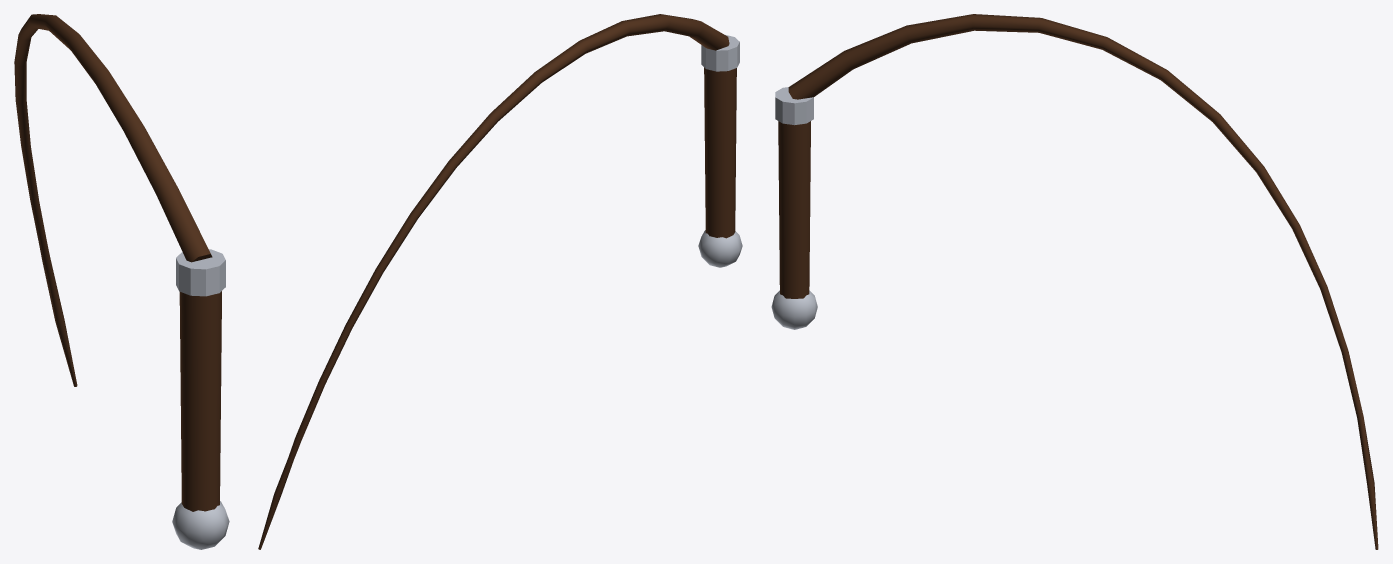
The model's file is whip.glb.
3 views of the same model, side by side, from view 1: azimuth 30°, elevation 25°; view 2: azimuth 150°, elevation 25°; view 3: azimuth 270°, elevation 25° (orthographic). The views are drawn at different scales.
Visible parts, largest first — view 1: Whip_Lash, Whip_Handle, Whip_Fittings; view 2: Whip_Lash, Whip_Handle, Whip_Fittings; view 3: Whip_Lash, Whip_Handle, Whip_Fittings.
Part boxes in pixels (x1,y1,x2,y2): Whip_Lash: (14,14,212,386); Whip_Handle: (179,291,221,511); Whip_Fittings: (172,249,229,549); Whip_Lash: (258,14,729,549); Whip_Handle: (704,67,736,238); Whip_Fittings: (698,35,742,267); Whip_Lash: (788,14,1378,549); Whip_Handle: (778,121,810,298); Whip_Fittings: (771,87,817,329).
Size of the model in its own units: 0.2525 by 0.5122 by 0.6285.
